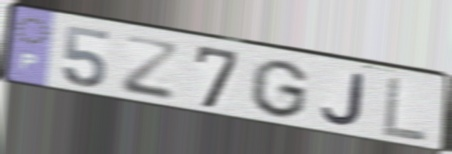5: (60, 23, 111, 90)
7: (193, 43, 239, 110)
G: (247, 57, 311, 121)
J: (319, 72, 366, 129)
L: (380, 74, 431, 145)
Z: (119, 32, 182, 103)
